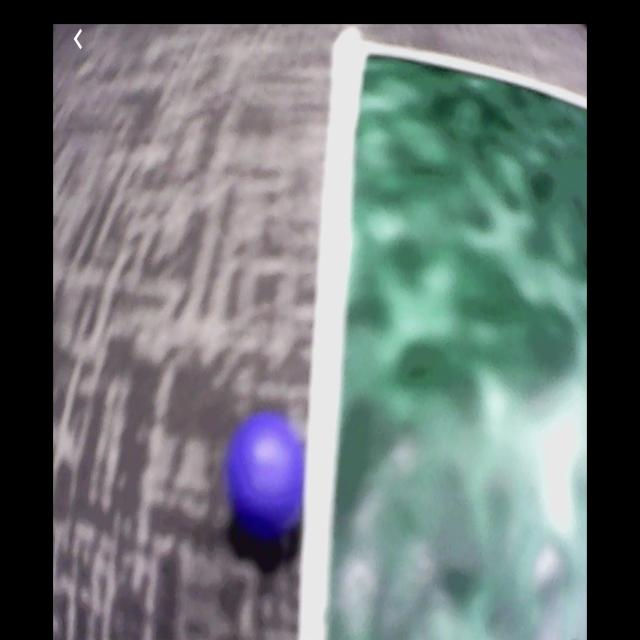ball: (228, 413, 306, 536)
